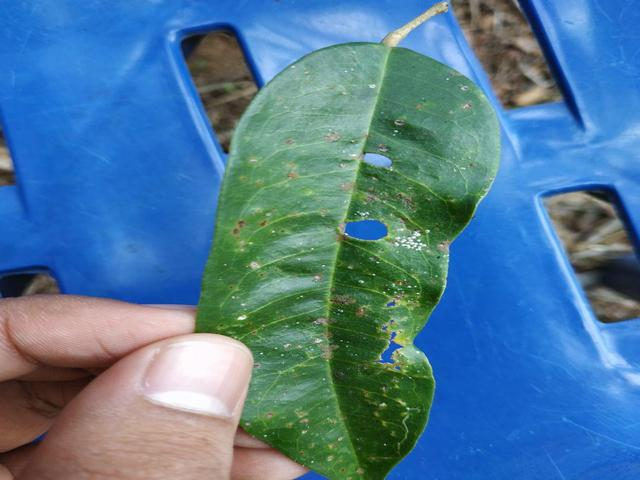blight spot: (361, 281, 412, 390), (349, 137, 411, 188), (332, 212, 395, 254)
